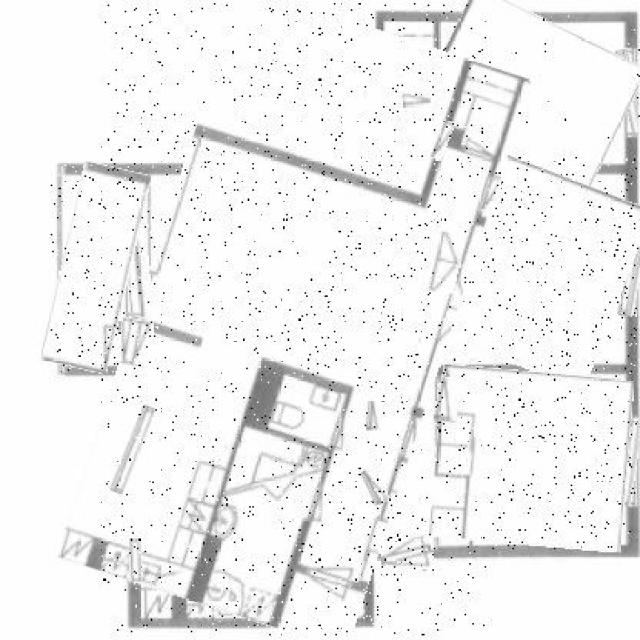door: (100, 2, 488, 636), (423, 157, 637, 377), (425, 3, 637, 180), (434, 369, 631, 549), (269, 434, 377, 621), (51, 165, 140, 372)
window: (381, 537, 437, 575), (429, 231, 462, 294), (117, 318, 152, 368), (435, 378, 460, 422), (363, 468, 386, 504), (434, 122, 451, 162), (403, 89, 431, 108), (368, 400, 383, 431)
zone: (123, 177, 151, 318), (118, 405, 150, 497), (620, 224, 640, 316), (620, 46, 640, 136), (621, 418, 640, 506), (129, 538, 142, 582)
